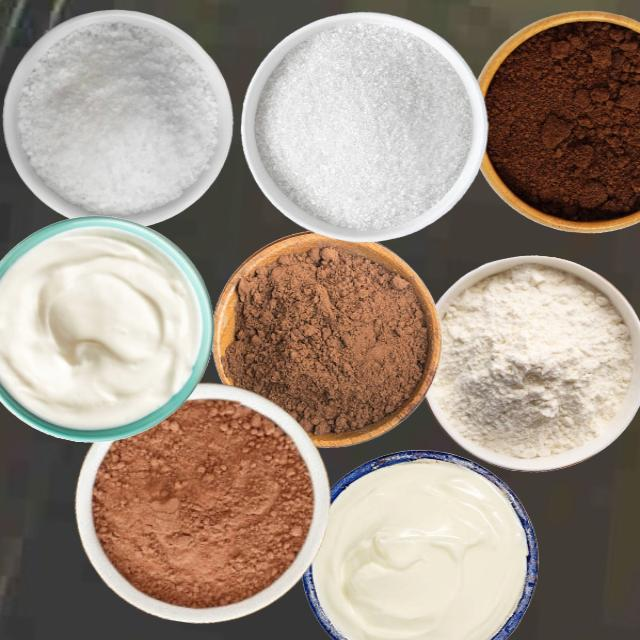Cocoa: (90, 397, 313, 608), (218, 238, 433, 438)
Coffee: (483, 14, 639, 222)
Flour: (430, 263, 634, 459)
Sugar: (254, 20, 473, 231), (16, 19, 219, 215)
